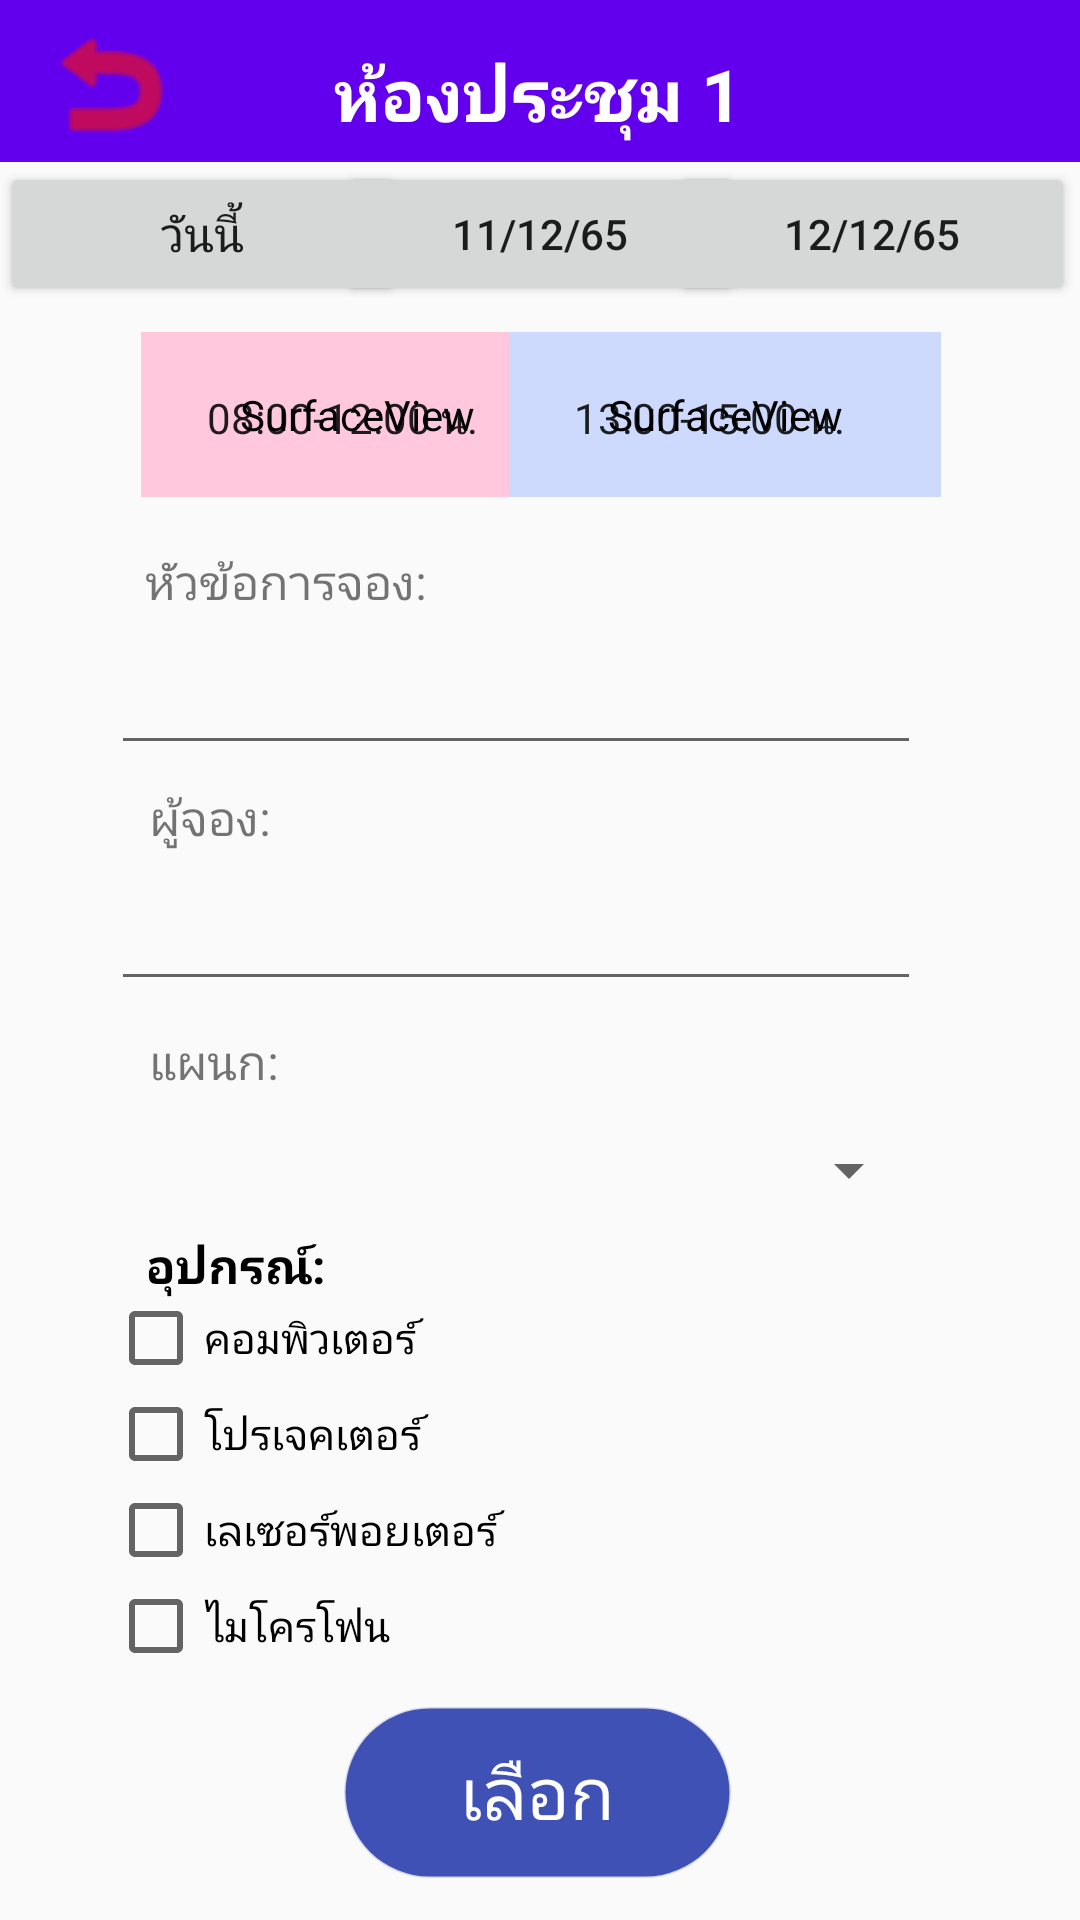

Where icons sit on this 1080px x 1920px app screen, as (x1, y1, x2, y2):
revert: (61, 38, 163, 132)
